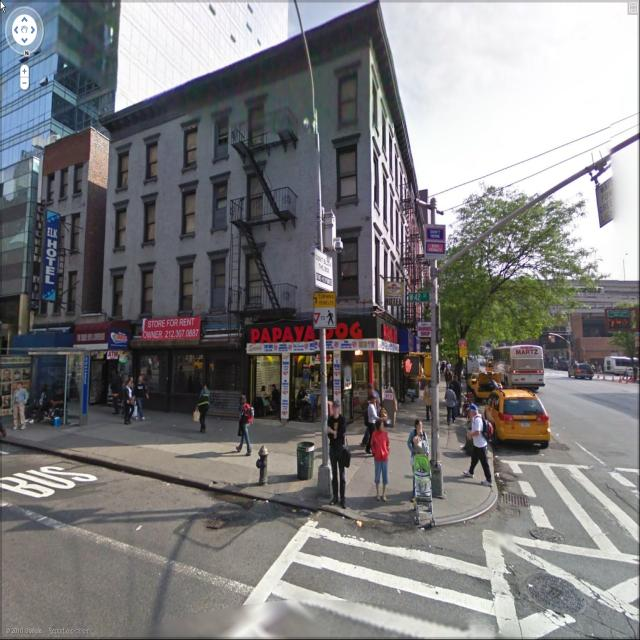b_1: (112, 37, 408, 377), (37, 140, 115, 300)
b_2: (400, 170, 589, 408)
